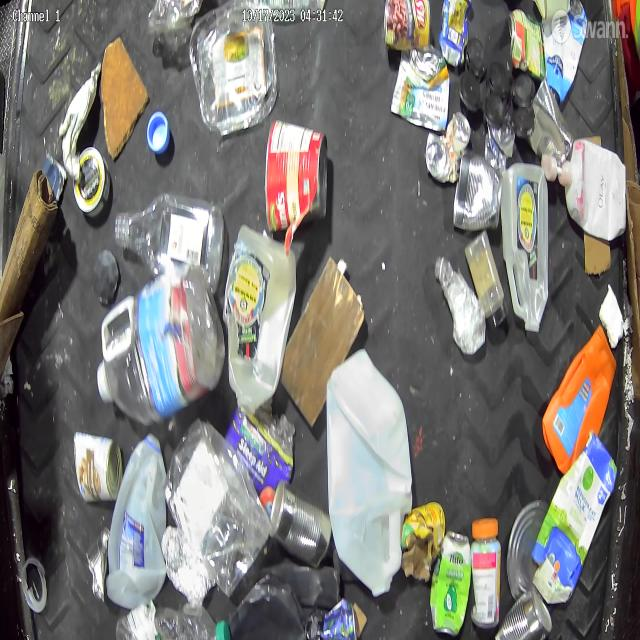milk-jug: (324, 351, 416, 600)
